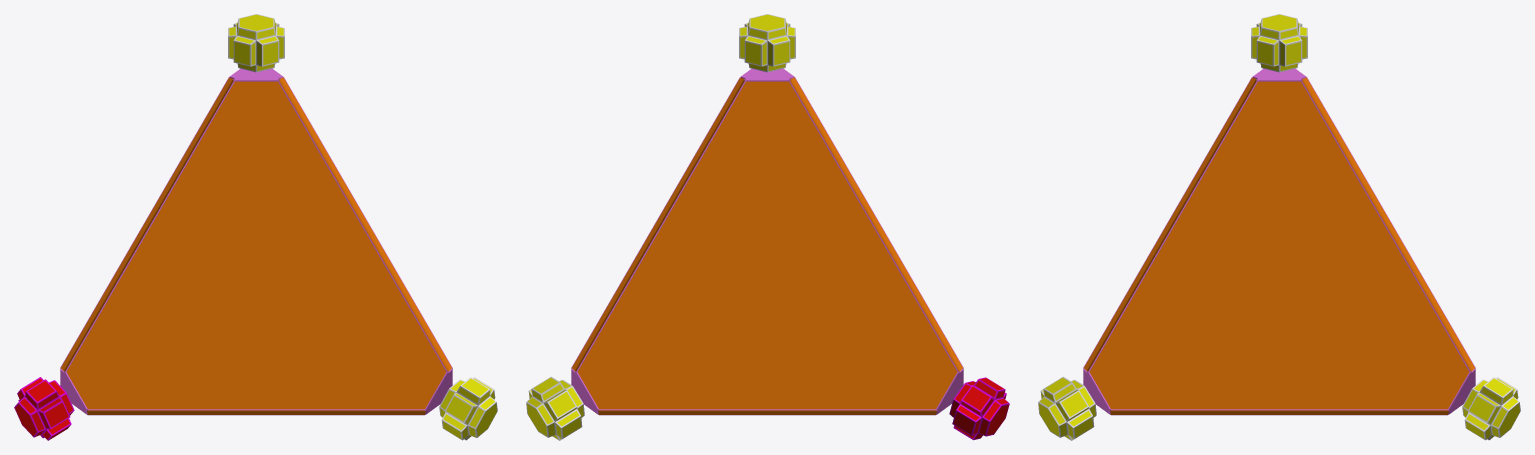
The model's file is Tetrahedron_HiRes_v01.FBX.
3 views of the same model, side by side, from view 1: azimuth 30°, elevation 25°; view 2: azimuth 150°, elevation 25°; view 3: azimuth 270°, elevation 25° (orthographic).
Parts seen in each view (by area): view 1: GEARS; view 2: GEARS; view 3: GEARS.
Part boxes in pixels (x1,y1,x2,y2): GEARS: (14, 14, 497, 440); GEARS: (526, 14, 1009, 440); GEARS: (1038, 14, 1520, 440).
Bounding box in the file's own units: 16.63 × 15.61 × 18.78.
